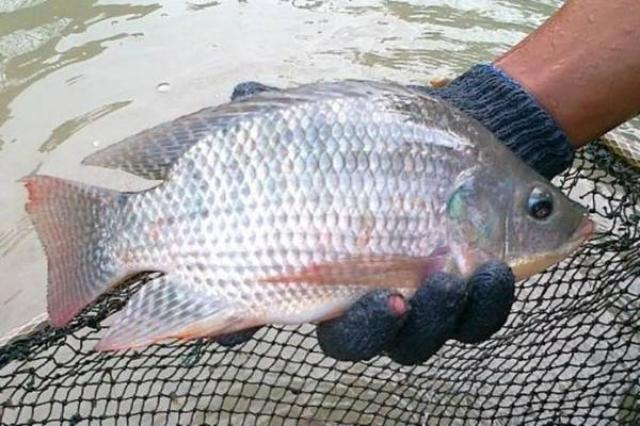Mulut: (542, 195, 614, 268)
Sirip Anal: (75, 268, 262, 384)
Sirip Dada: (251, 238, 469, 296)
Sirip Ekor: (4, 154, 142, 348)
Sirip Punggung: (71, 60, 427, 194)
